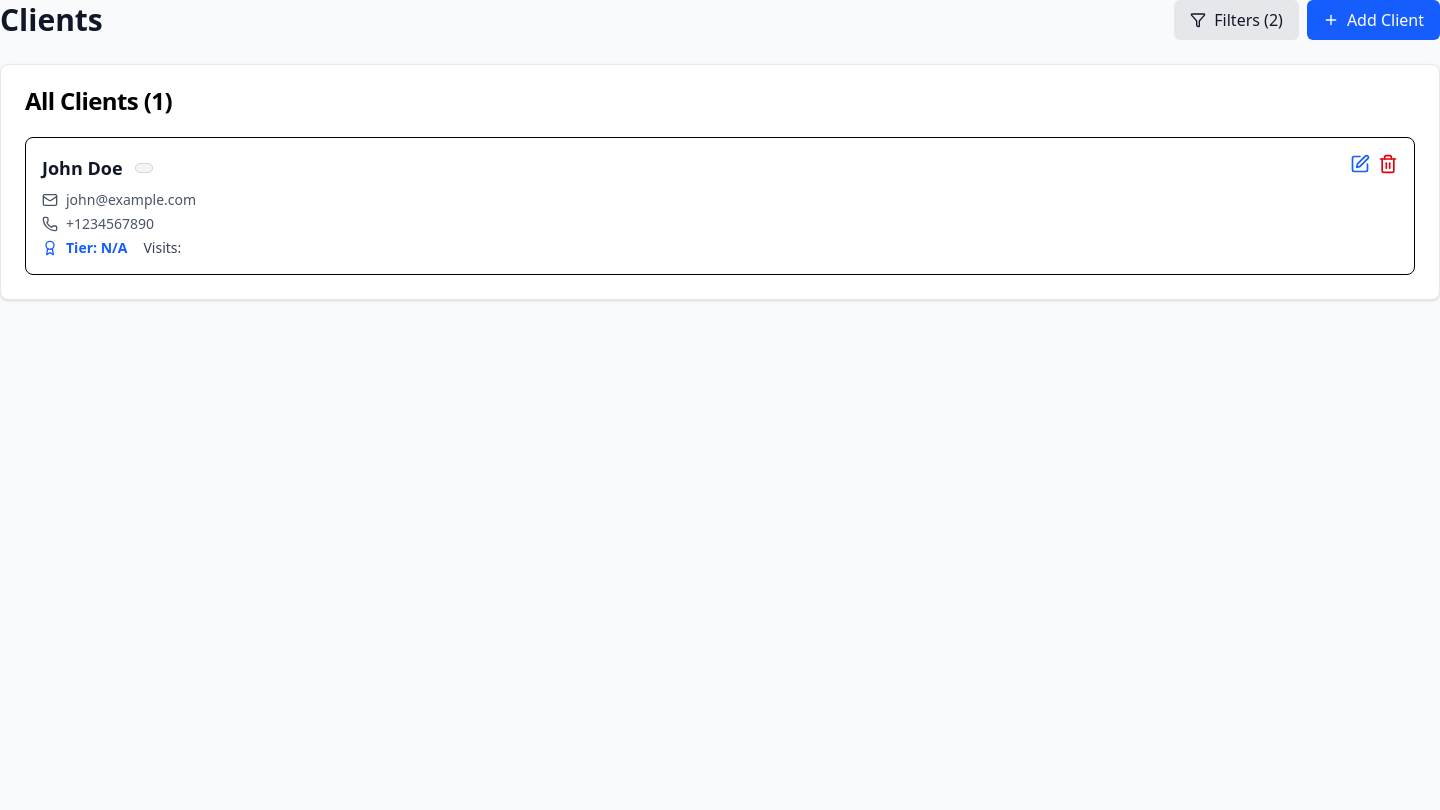
Scenario: Clients Component - CRUD Operations › opens create modal when Add Client button is clicked
The width and height of the screenshot is (1440, 810).
Check: the heading "John Doe" is shown, box [42,154,122,182]
Click the button "Add Client" at (1373, 20), box [1307,0,1439,40]
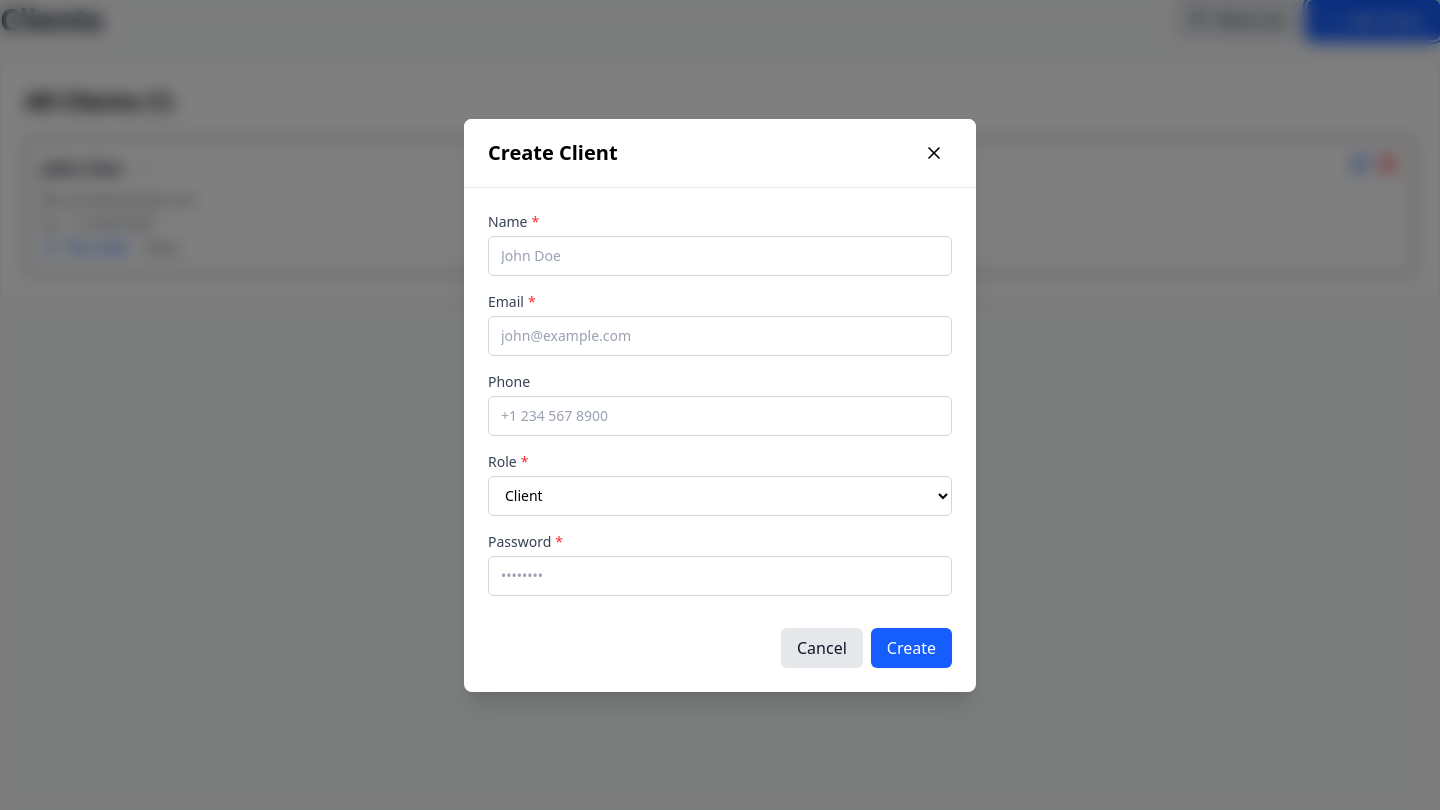
Check: the heading "Create Client" is shown, box [488,138,618,166]
